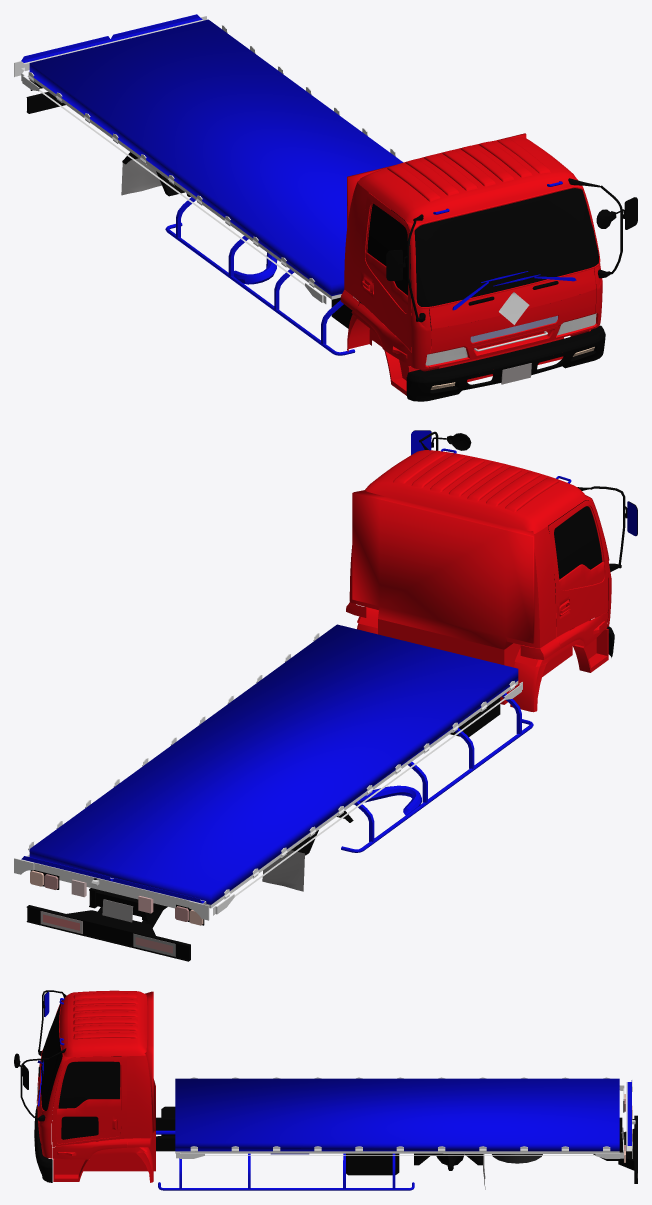
Rendered from containertruckbody.fbx.
The picture shows the model from 3 angles, top to bottom: view 1: azimuth 30°, elevation 25°; view 2: azimuth 150°, elevation 25°; view 3: azimuth 270°, elevation 25°; orthographic projection. The views are drawn at different scales.
Parts seen in each view (by area): view 1: Isuzu.001; view 2: Isuzu.001; view 3: Isuzu.001.
Part boxes in pixels (x1,y1,x2,y2): Isuzu.001: [14, 14, 637, 401]; Isuzu.001: [14, 430, 637, 961]; Isuzu.001: [14, 990, 637, 1190].
Bounding box in the file's own units: 79.77 × 66.37 × 247.
